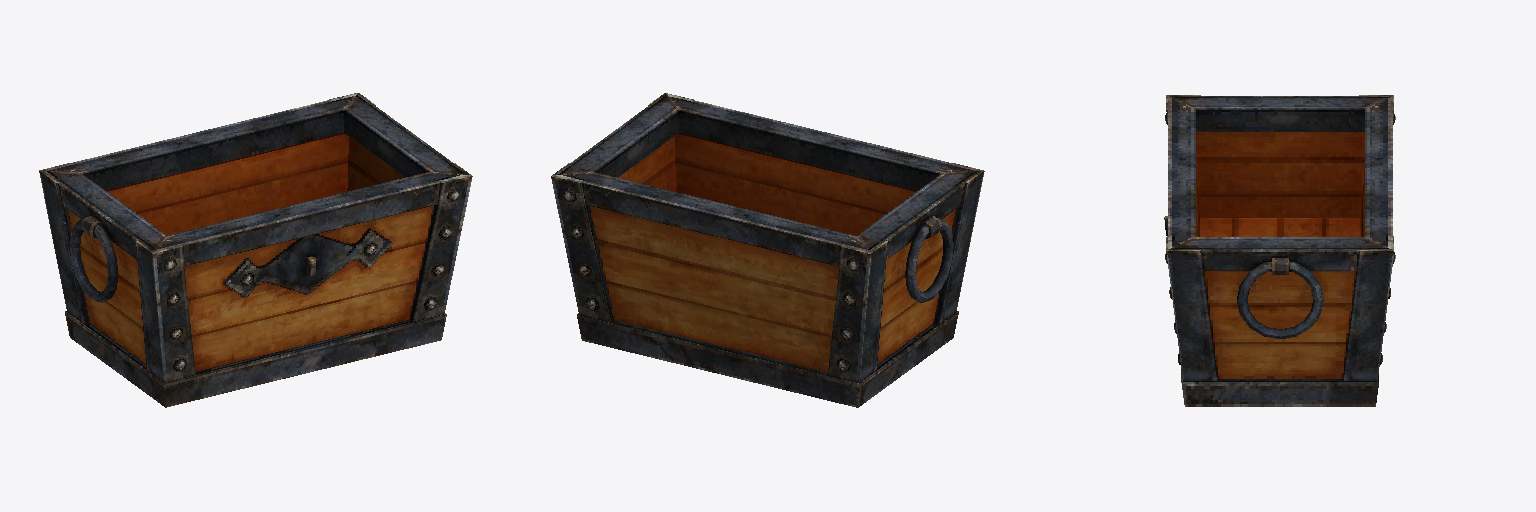
The picture shows the model from 3 angles: view 1: azimuth 30°, elevation 25°; view 2: azimuth 150°, elevation 25°; view 3: azimuth 270°, elevation 25°; orthographic projection.
Visible parts, largest first — view 1: Chest_Base_271_271; view 2: Chest_Base_271_271; view 3: Chest_Base_271_271.
Boxes of the visible parts, x1=… form: Chest_Base_271_271: x1=39, y1=93, x2=472, y2=407; Chest_Base_271_271: x1=551, y1=93, x2=984, y2=407; Chest_Base_271_271: x1=1164, y1=95, x2=1395, y2=406.
Bounding box in the file's own units: 0.1391 × 0.0652 × 0.082.
Materials: 2 (2 with a texture image).